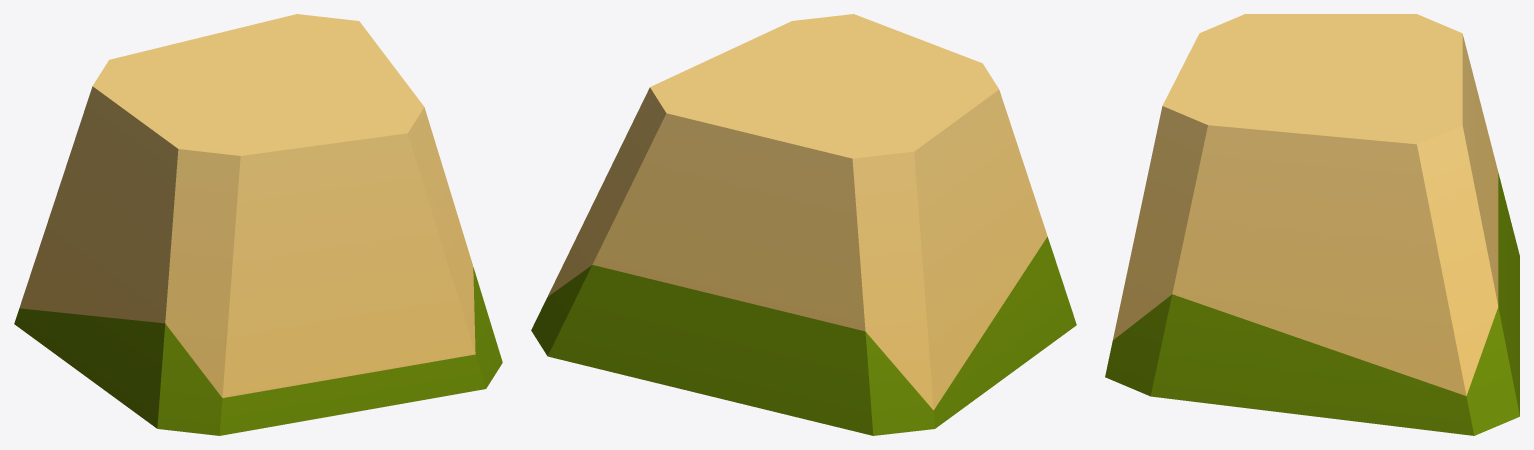
The model's file is Rock_09.fbx.
The picture shows the model from 3 angles, left to right: view 1: azimuth 30°, elevation 25°; view 2: azimuth 150°, elevation 25°; view 3: azimuth 270°, elevation 25°; orthographic projection.
Visible parts, largest first — view 1: Rock_09; view 2: Rock_09; view 3: Rock_09.
Part boxes in pixels (bbox=[...]): Rock_09: bbox=[14, 14, 502, 435]; Rock_09: bbox=[531, 14, 1076, 435]; Rock_09: bbox=[1105, 14, 1519, 435].
Size of the model in its own units: 358 by 207 by 315.
